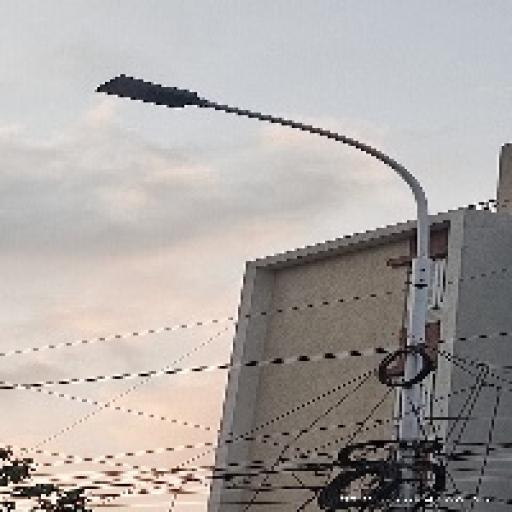Not Working: (88, 67, 212, 120)
